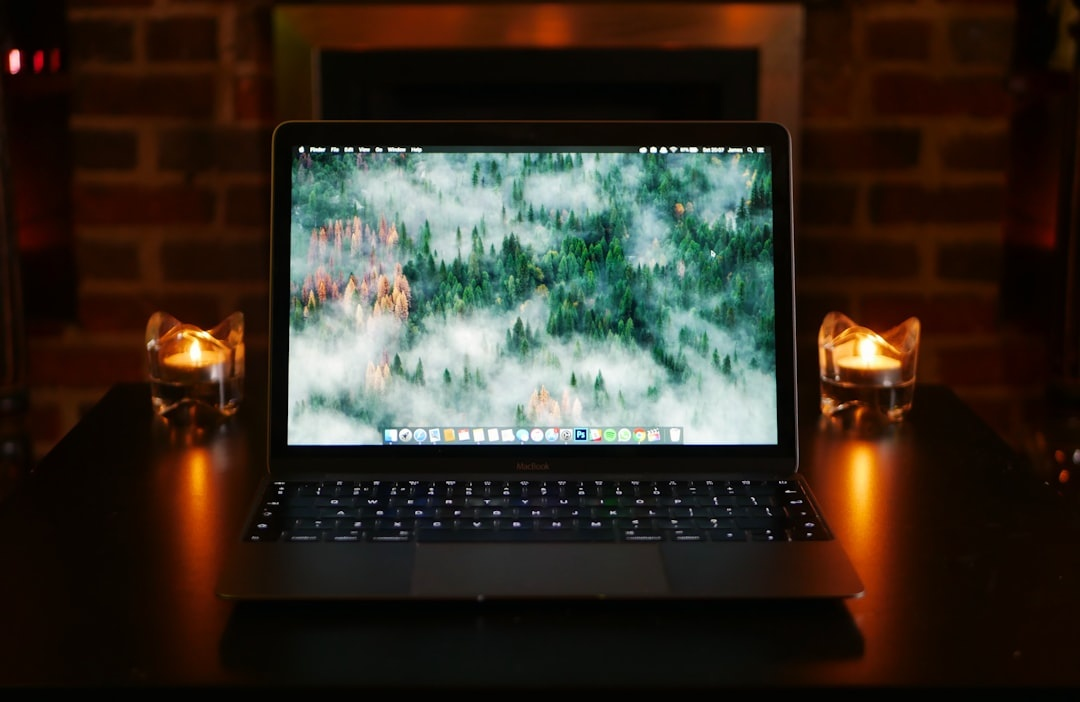laptop: (206, 90, 858, 628)
